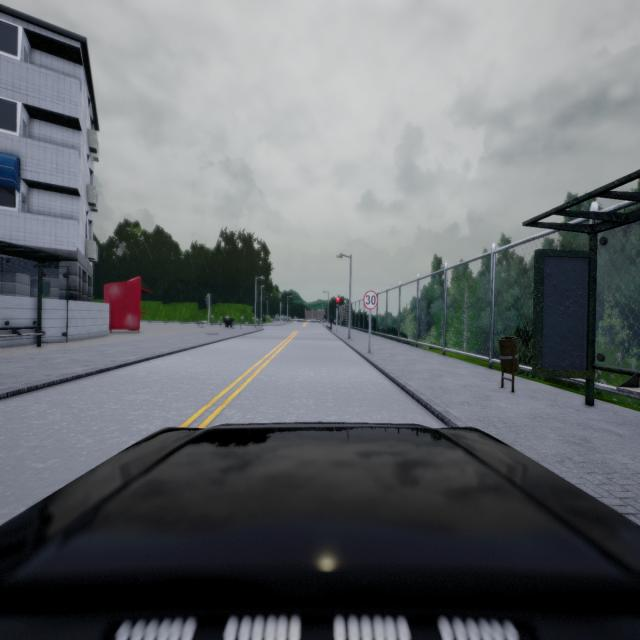Speed Limit -30-: (363, 290, 378, 310)
